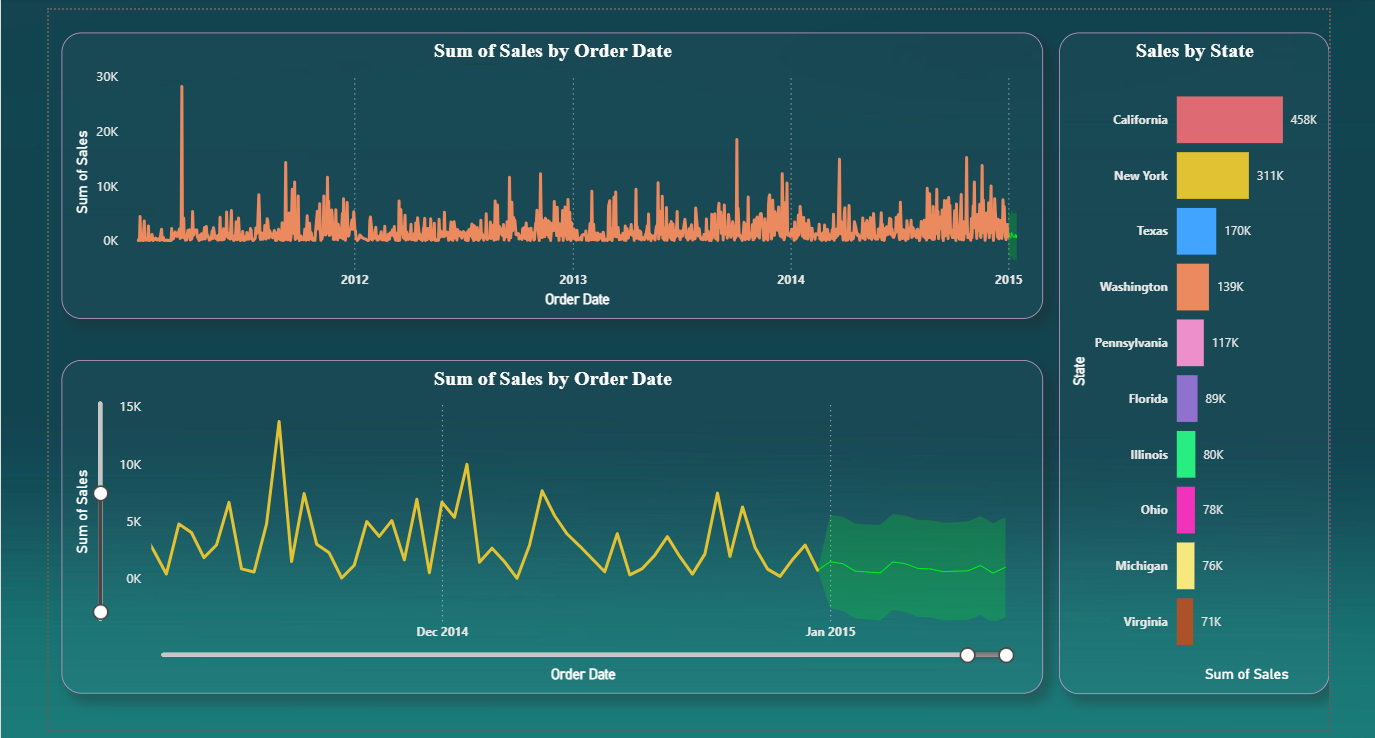

What the dashboard file says about the page in this screenshot:
{"tool":"powerbi","page":{"name":"Page 2","canvas":[1280,720],"ordinal":1},"visuals":[{"type":"lineChart","fields":{"Y":["Sum(Orders.Sales)"],"Category":["Orders.Order Date"]},"box":[12.5,22.5,981.2,286.2],"z":0},{"type":"lineChart","fields":{"Y":["Sum(Orders.Sales)"],"Category":["Orders.Order Date"]},"box":[12.5,350,981.2,333.8],"z":1000},{"type":"clusteredBarChart","title":"Sales by State","fields":{"Y":["Sum(Orders.Sales)"],"Category":["Orders.State"]},"box":[1010,22,270,661.2],"z":2000}]}

Visuals, with their boxes on the page's 1280x720 design canvas (x1, y1, x2, y2). These are canvas units, not pixel positions in the 1375x738 screenshot, which may show the page scaled, cropped or inside an application window:
lineChart - Sum(Orders.Sales) x Orders.Order Date: <region>12, 22, 994, 309</region>
lineChart - Sum(Orders.Sales) x Orders.Order Date: <region>12, 350, 994, 684</region>
"Sales by State" clusteredBarChart: <region>1010, 22, 1280, 683</region>
